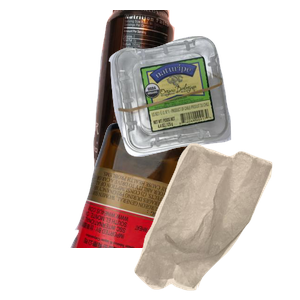glass: (68, 120, 255, 300)
metal: (91, 10, 258, 188)
plastic: (106, 34, 300, 183)
trash: (132, 140, 300, 300)
